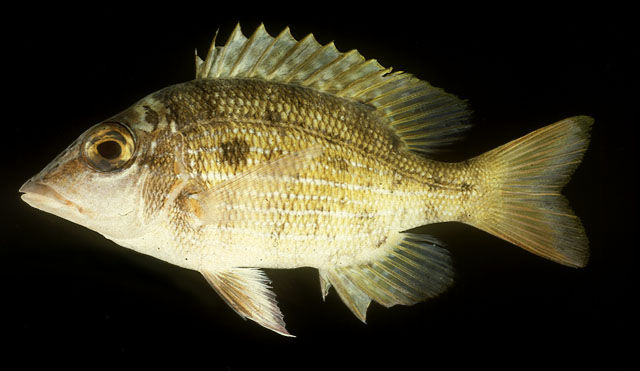fish: (18, 22, 596, 338)
